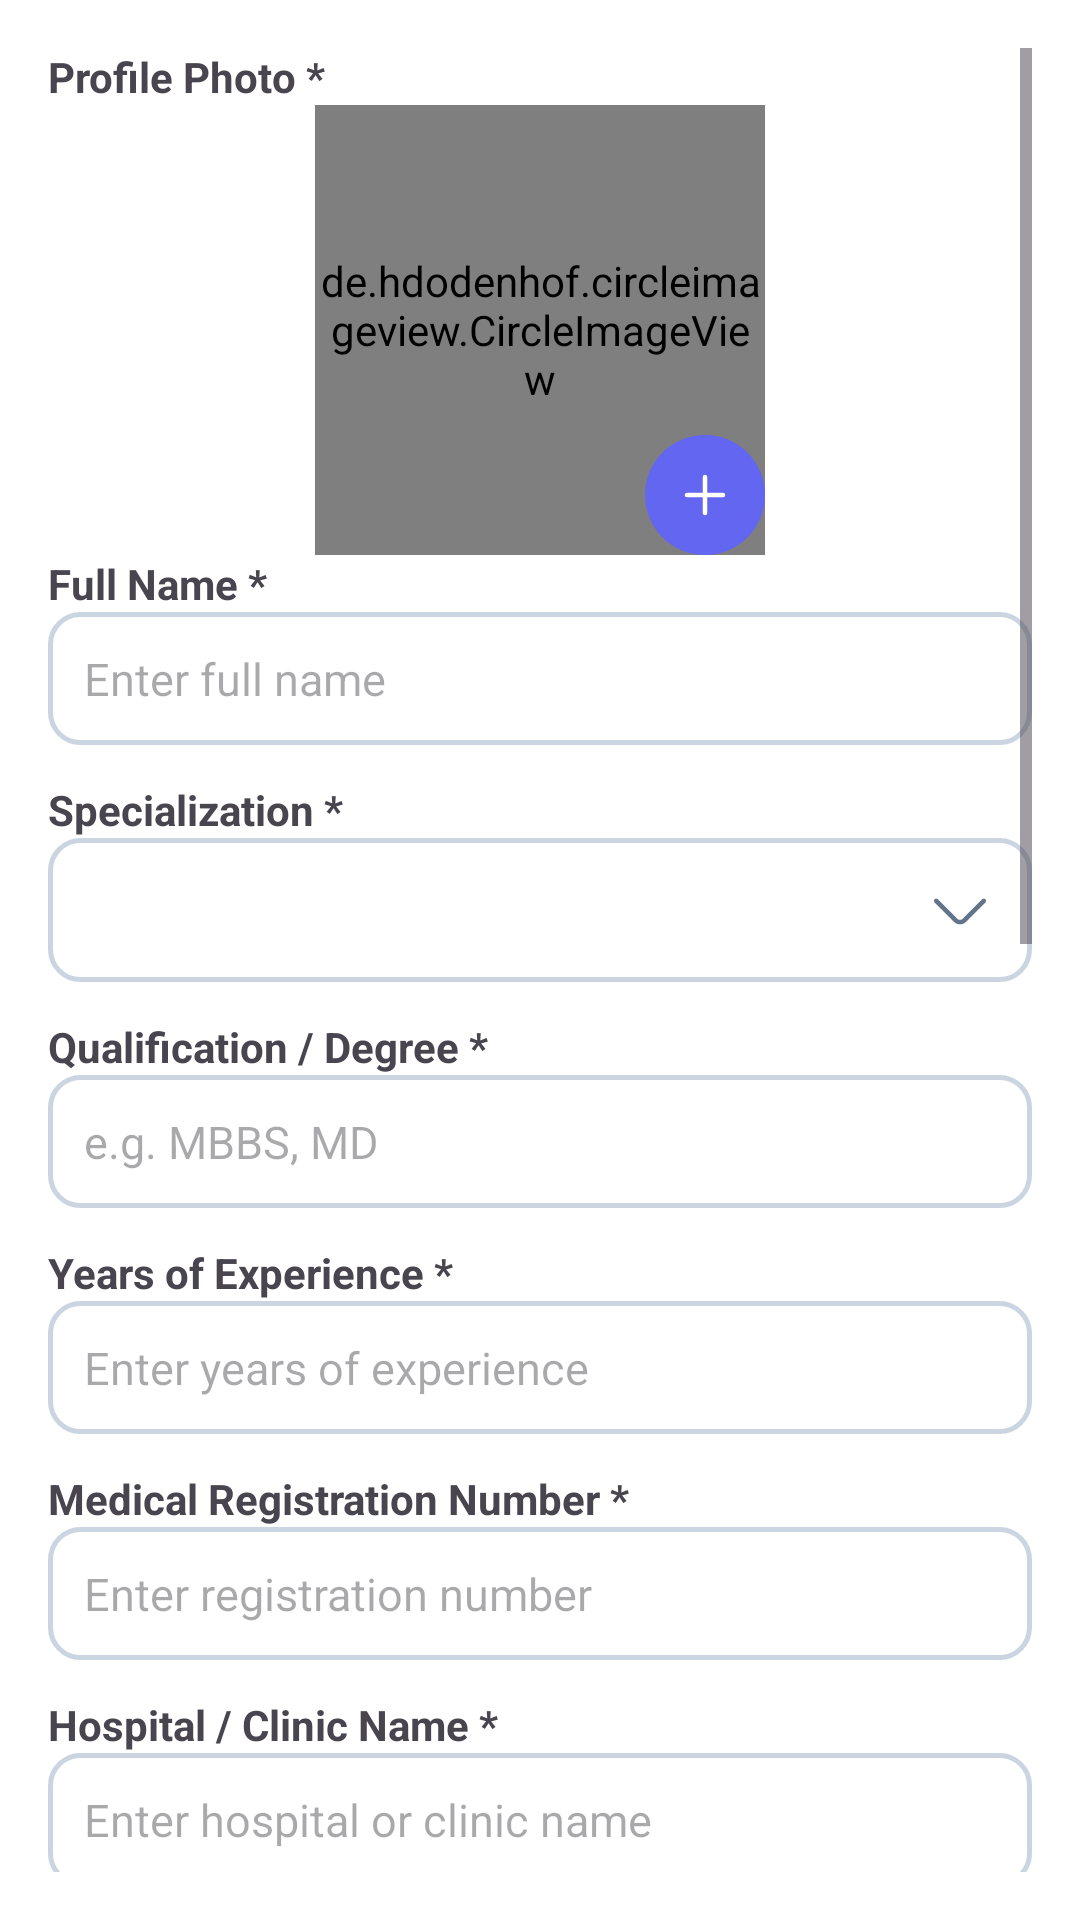

Point at icon controls on the screen. Image size 1080 x 1920, points as (x,y).
Add Photo: (705,495)
